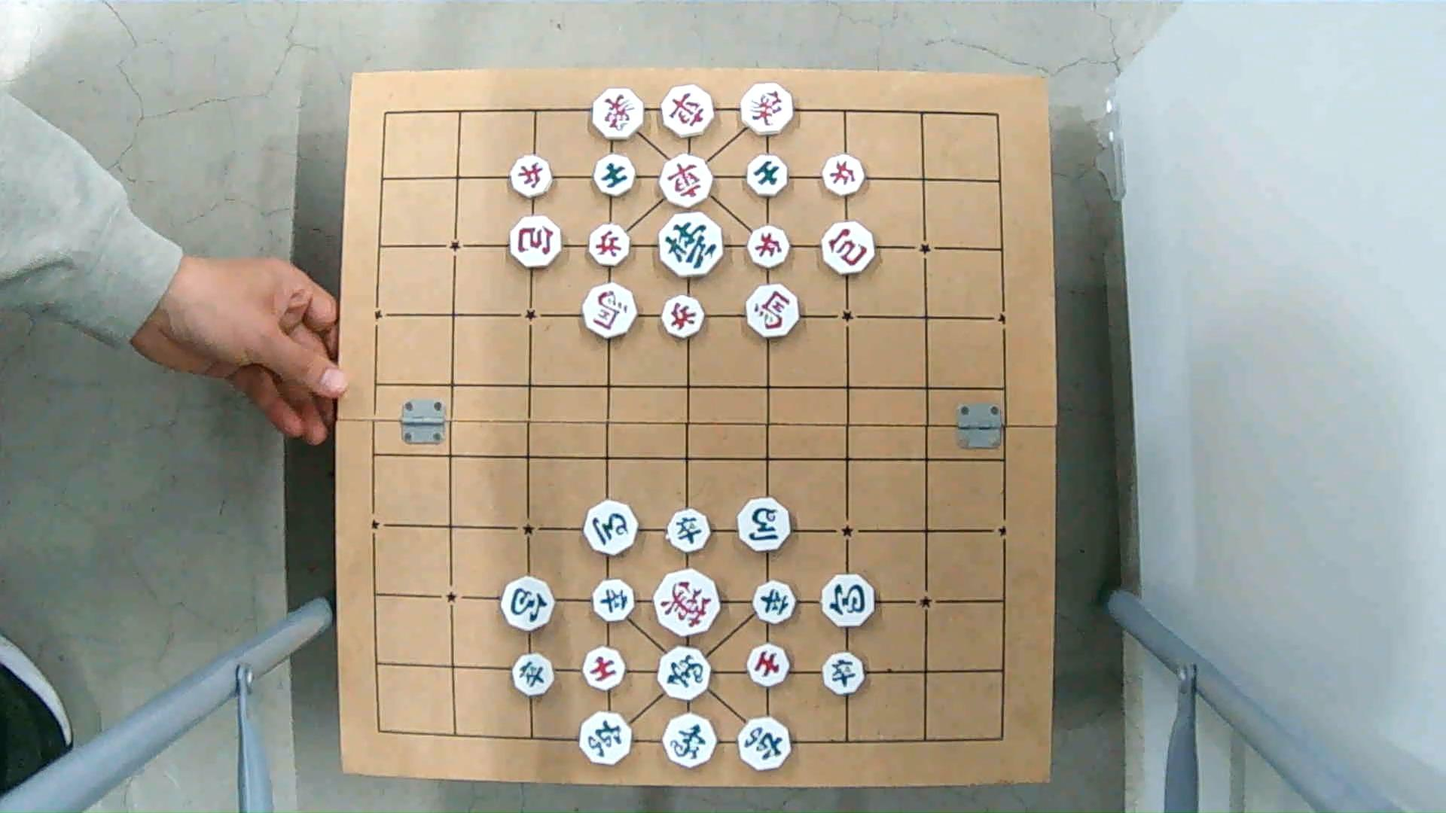cha_green: (577, 714, 636, 763), (736, 718, 793, 767)
cha_red: (655, 155, 715, 206), (657, 87, 715, 136)
jol_green: (750, 582, 803, 624), (590, 580, 640, 620), (819, 654, 868, 693), (513, 651, 554, 697), (666, 510, 710, 551)
jol_red: (507, 155, 557, 199), (819, 155, 868, 196), (745, 226, 790, 270), (662, 295, 704, 339), (587, 226, 635, 264)
ma_green: (734, 498, 793, 550), (581, 503, 642, 553)
ma_red: (581, 282, 641, 337), (746, 285, 807, 335)
po_green: (501, 575, 555, 631), (818, 577, 880, 625)
po_red: (820, 222, 877, 275), (506, 218, 563, 269)
sa_green: (744, 155, 792, 198), (593, 157, 640, 196)
sa_red: (580, 648, 630, 687), (746, 645, 792, 684)
sang_green: (655, 649, 715, 699), (663, 715, 719, 763)
sang_red: (589, 90, 648, 138), (739, 86, 798, 132)
wang_green: (658, 215, 728, 279)
wang_red: (651, 570, 723, 635)
